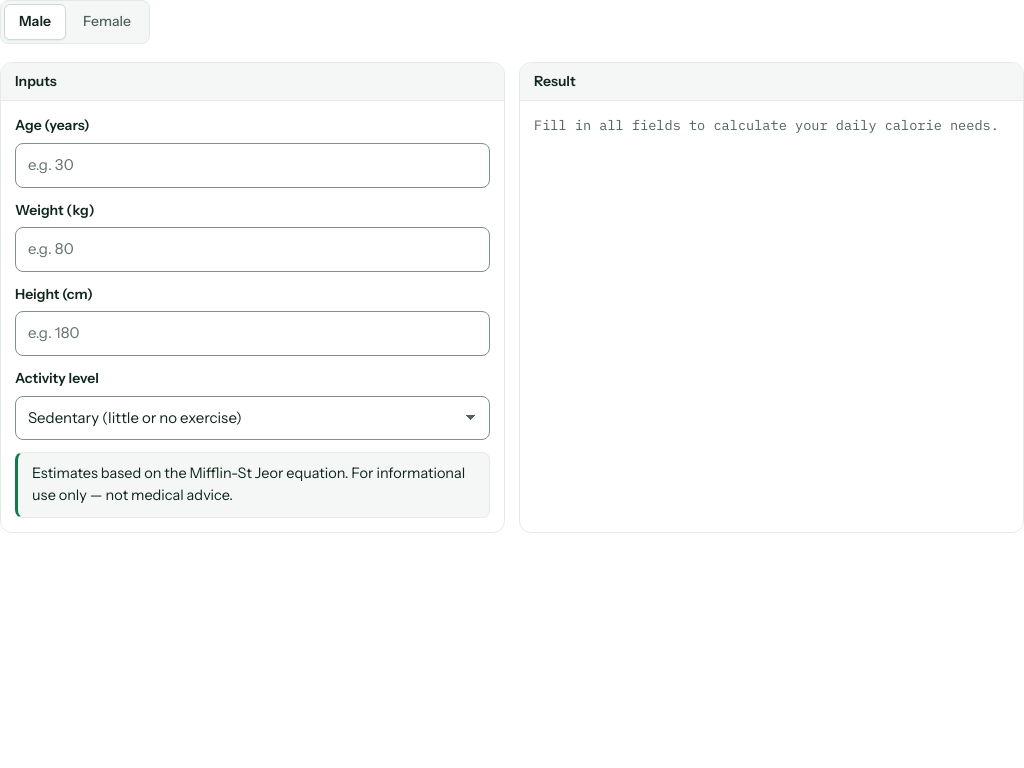
CalorieCalculator › shows error for invalid age
Step 1. Type "200" into the number field with placeholder "e.g. 30" → (252, 165), box x1=15 y1=143 x2=490 y2=188
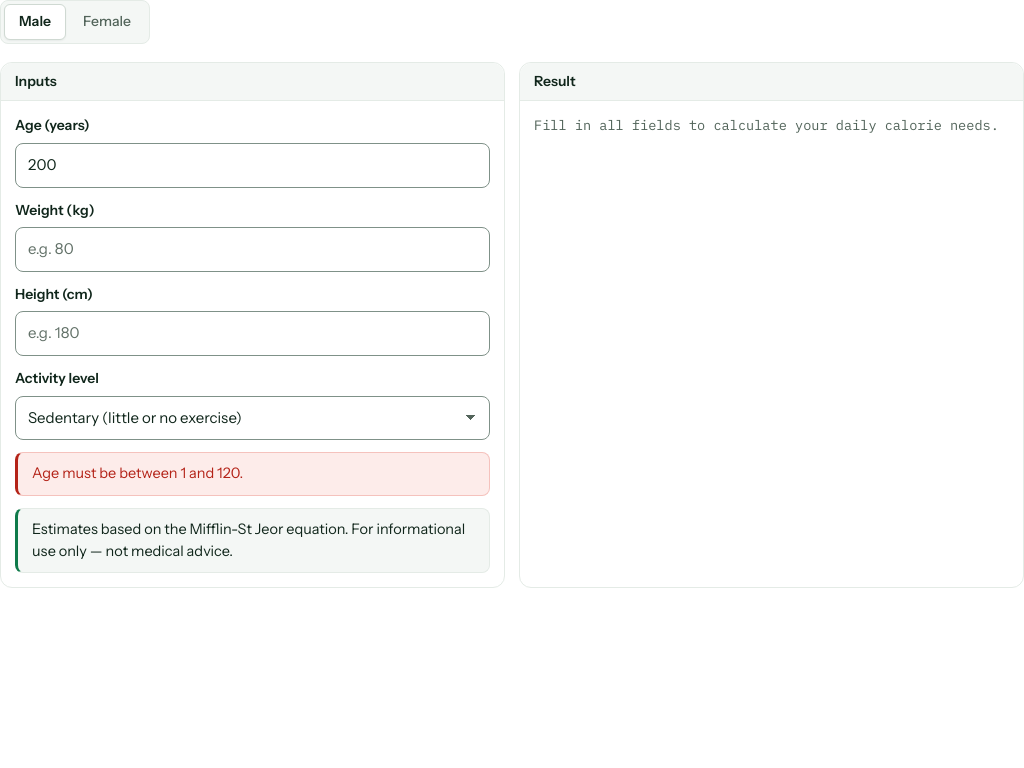
Expected: the text "Age must be between 1 and 120." is shown, x1=15 y1=452 x2=490 y2=496
